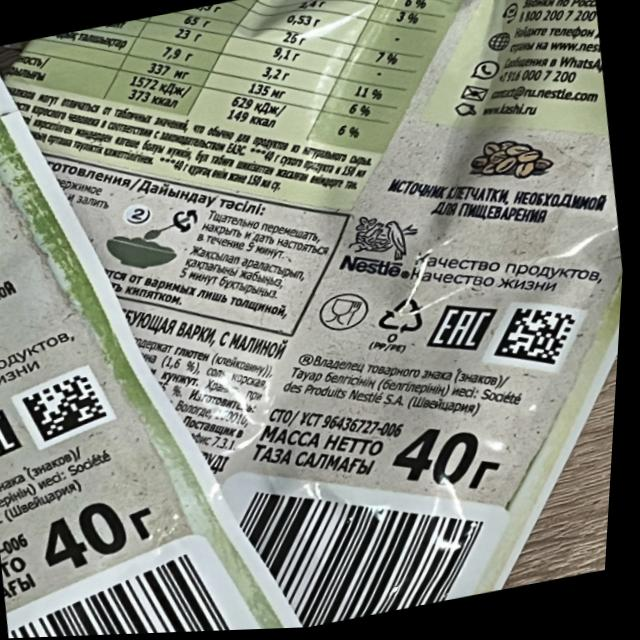datamatrix: (492, 302, 588, 381), (24, 373, 118, 447)
